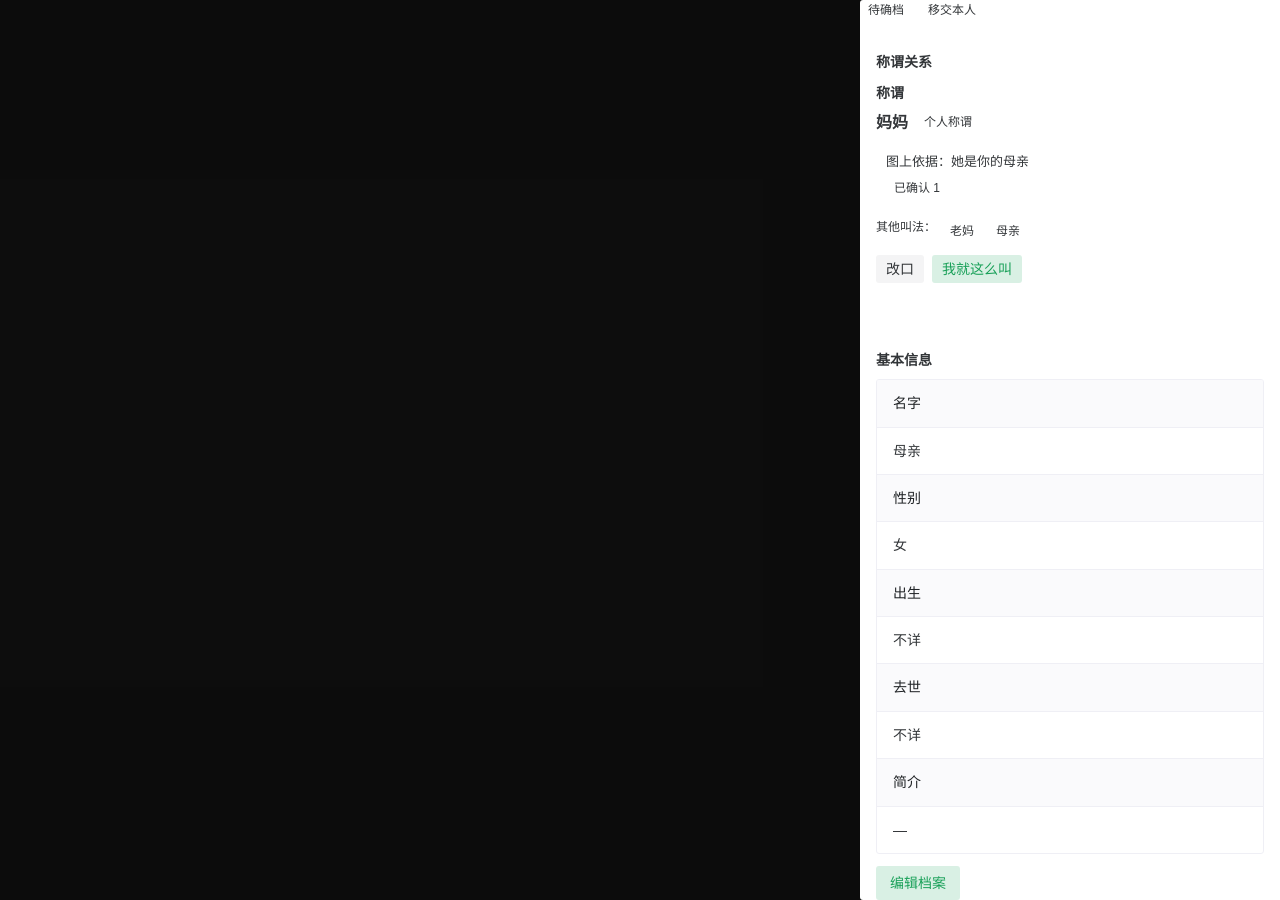
ProfileDrawer 称谓区（V2.3 Block E4c） › 个人纠正：保存后调 PUT terms/my 并立即强制刷新解析（AC-KI6 即时生效）
Expected: the text with test id "kinship-term" reads "妈妈", left=876, top=114, right=908, bottom=131
Click the button with test id "kinship-correct-btn". click: (900, 269)
box: left=876, top=255, right=924, bottom=283
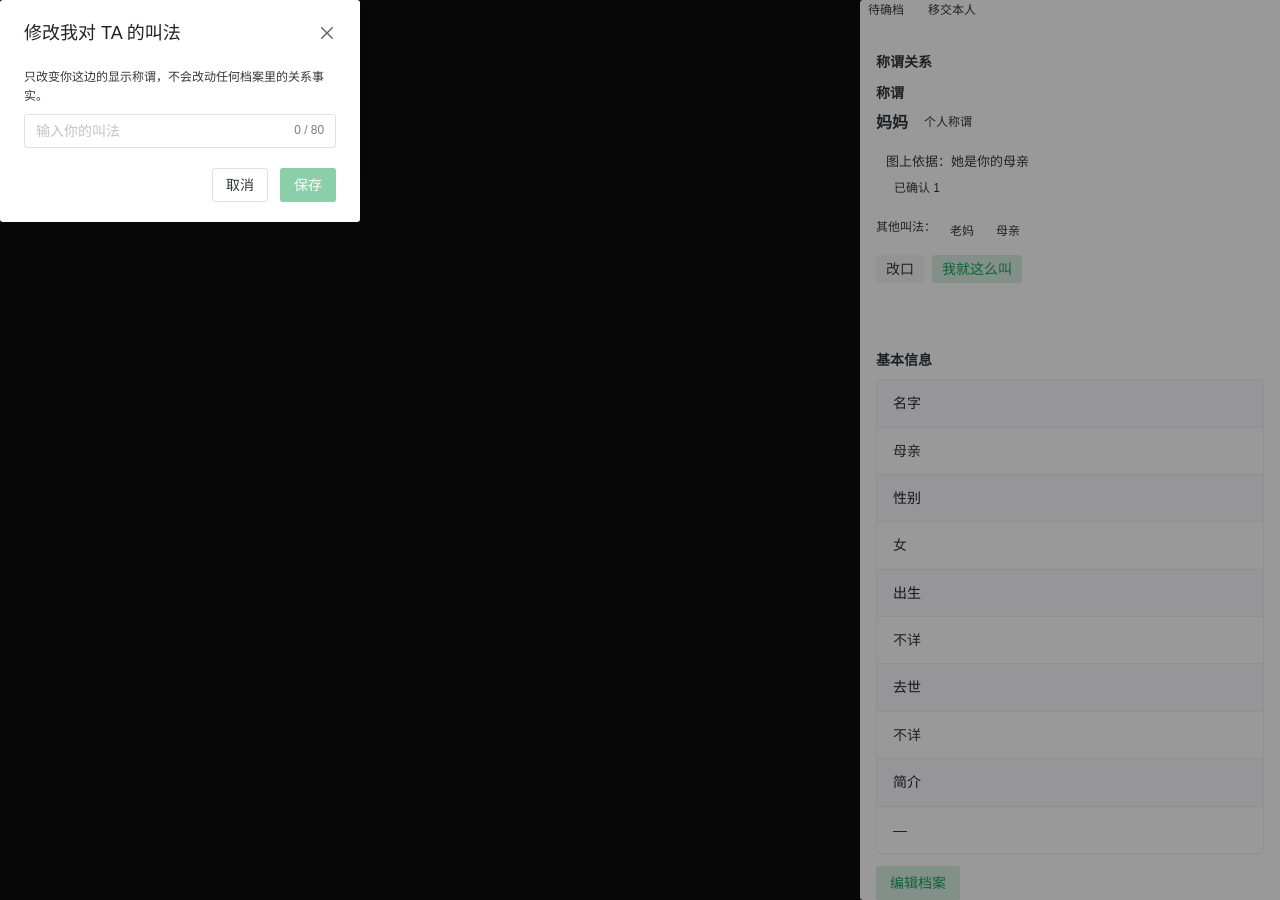
Now the dialog with test id "kinship-correction-dialog" is shown, box left=0, top=0, right=360, bottom=222
Now the field with test id "kinship-correction-input" is shown
Type "老妈" into the field with test id "kinship-correction-input". click: (161, 131)
box: left=36, top=114, right=286, bottom=148
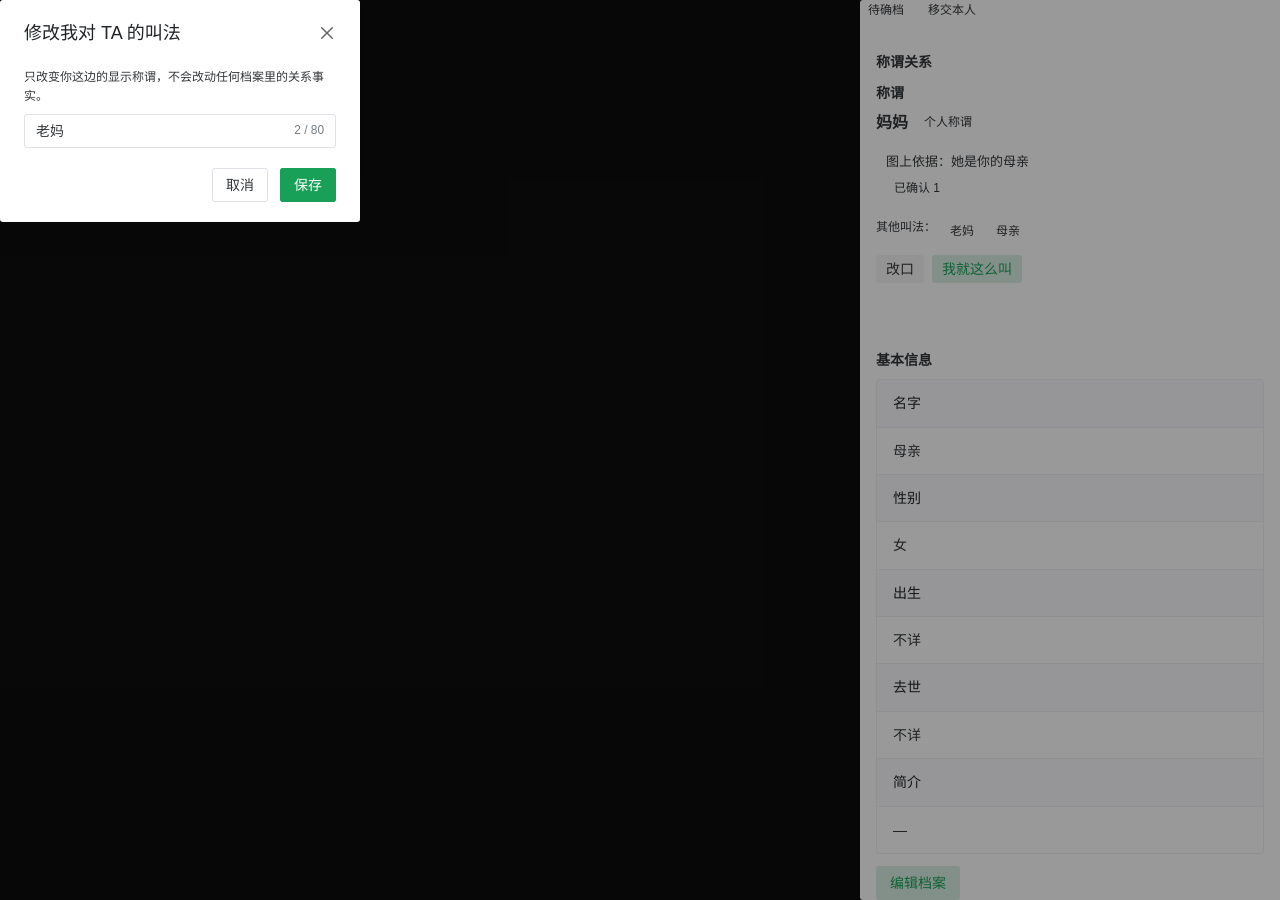
Now the button with test id "kinship-correction-save" is shown
Click the button with test id "kinship-correction-save". click: (308, 185)
box: left=280, top=168, right=336, bottom=202
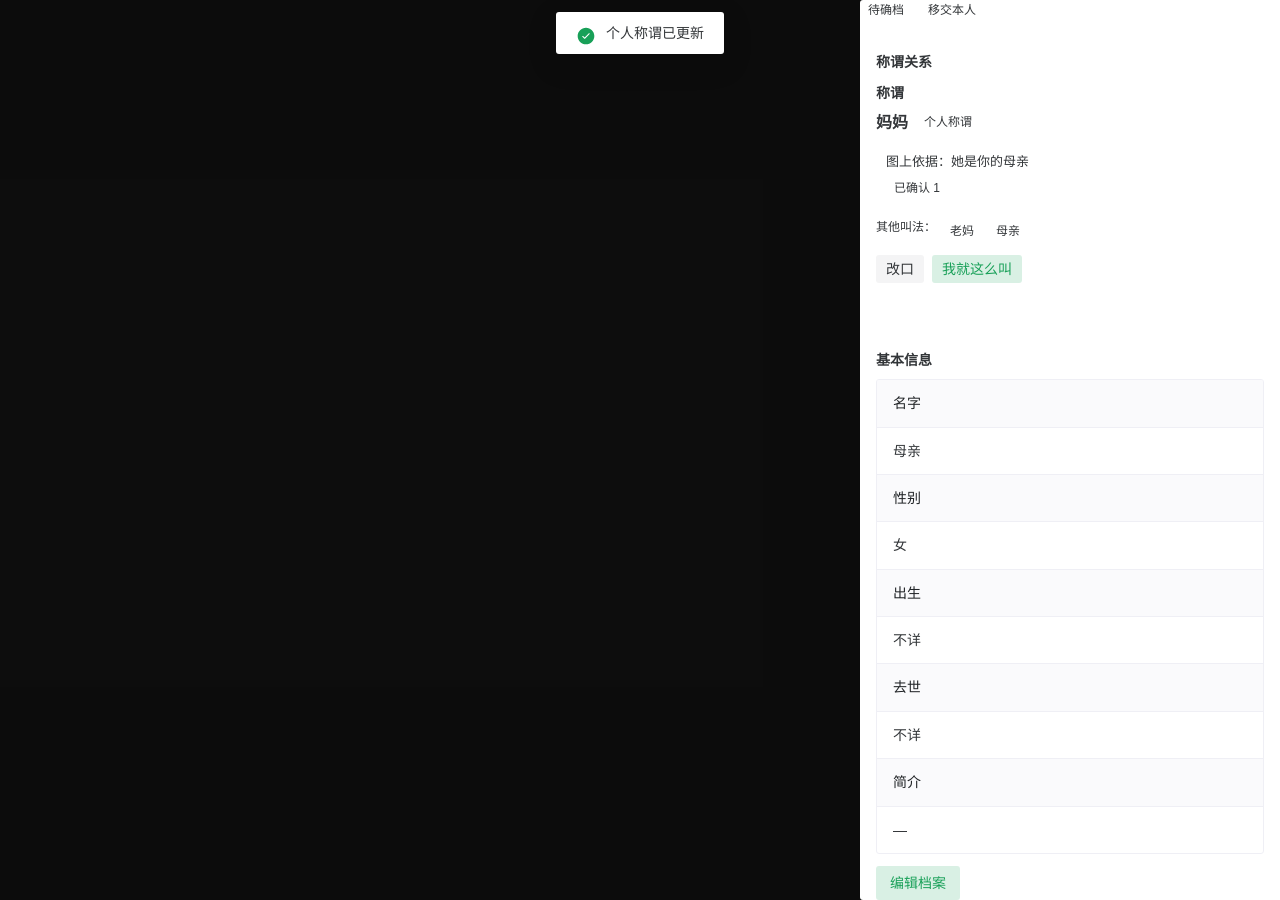
Now the text "个人称谓已更新" is shown, box left=606, top=22, right=704, bottom=44
